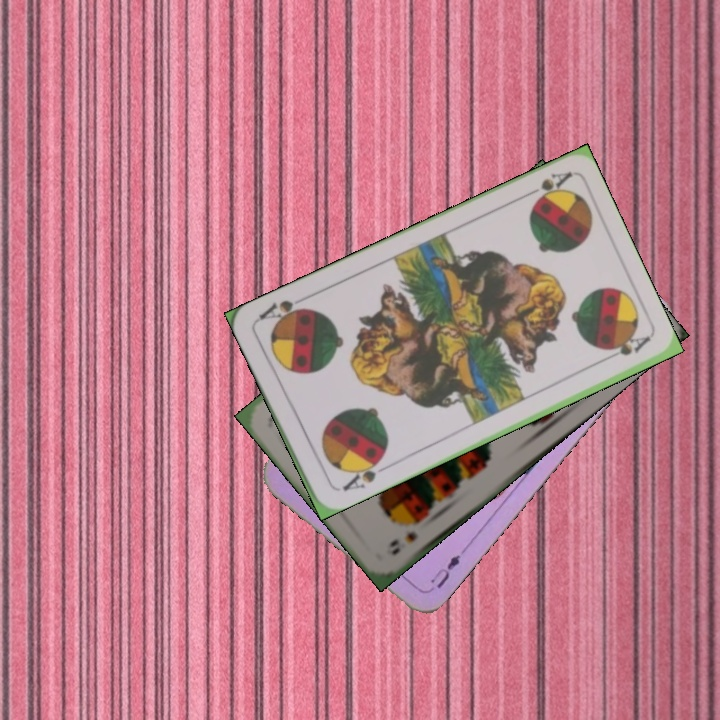EU: (426, 550, 463, 591)
S9: (385, 527, 421, 558)
SA: (333, 453, 385, 494), (517, 168, 573, 206)
